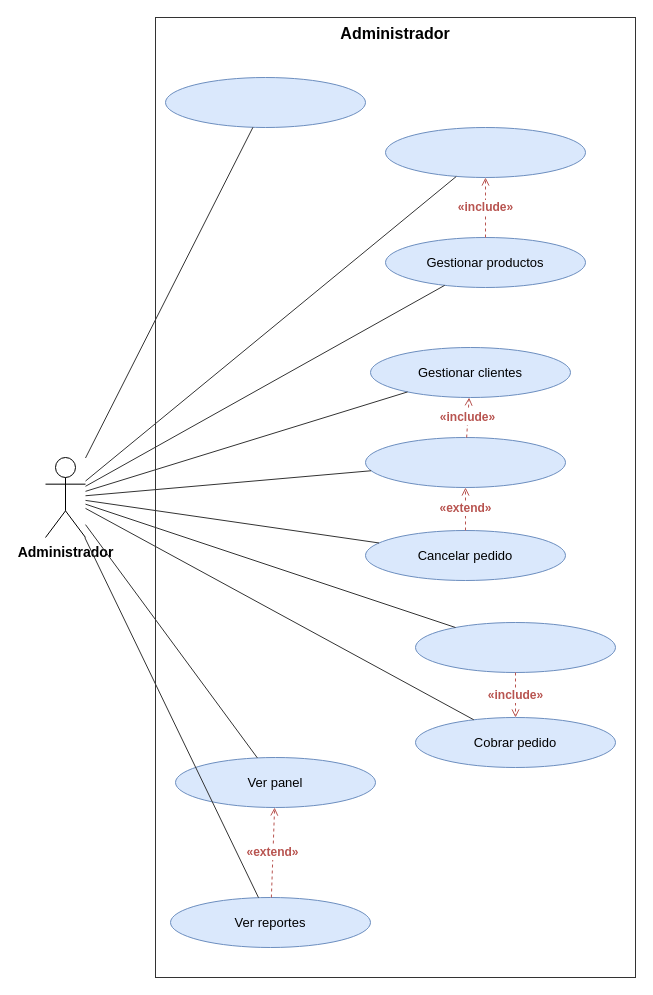
This 653x995 diagram has some shape labels left out. The shapes that lost their labels are listed below. From the top down, each one's centre as x and y in pixels, then its label:
At point (265, 102): "Iniciar sesión".
At point (485, 152): "Gestionar categorías".
At point (465, 462): "Registrar pedido".
At point (515, 647): "Cambiar estado".
